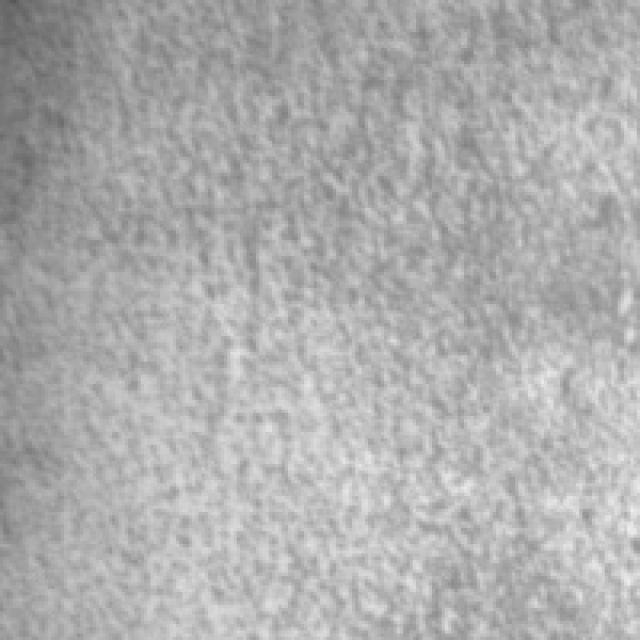pitted_surface: (19, 0, 624, 624)
